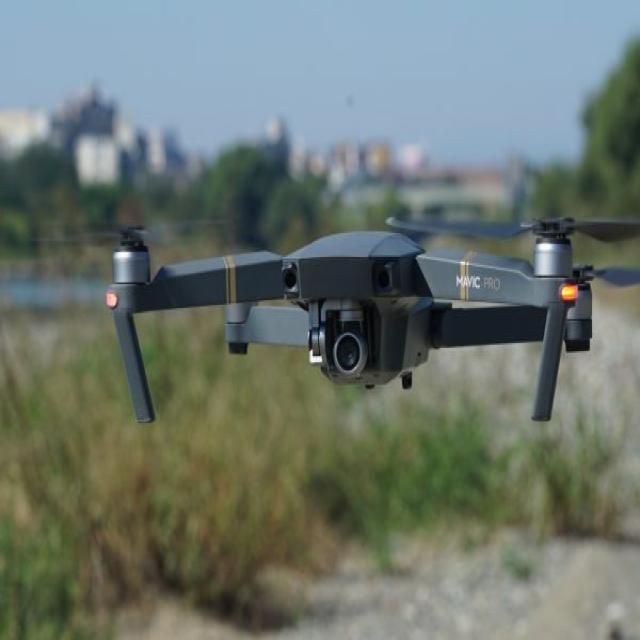drone: (69, 167, 640, 446)
